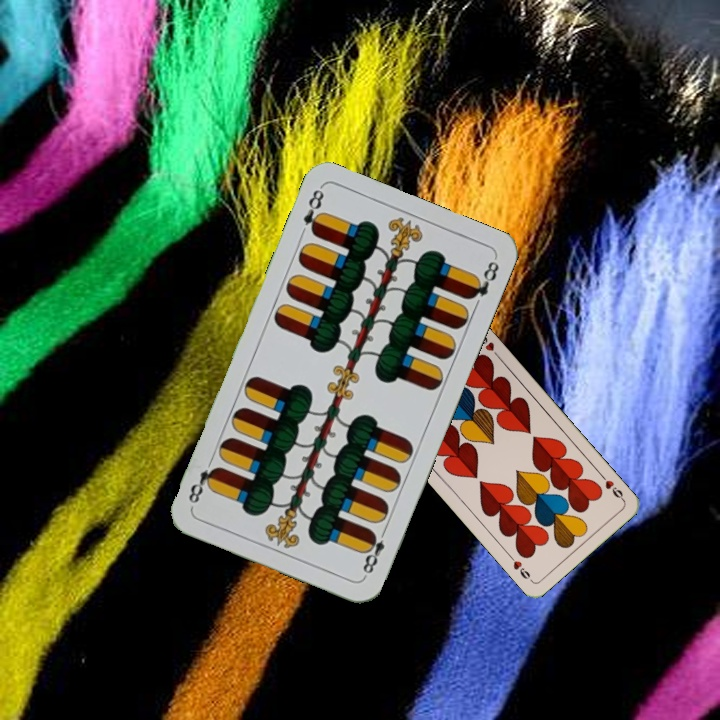E8: (358, 523, 390, 579), (299, 184, 327, 238)
H9: (596, 470, 627, 503)
